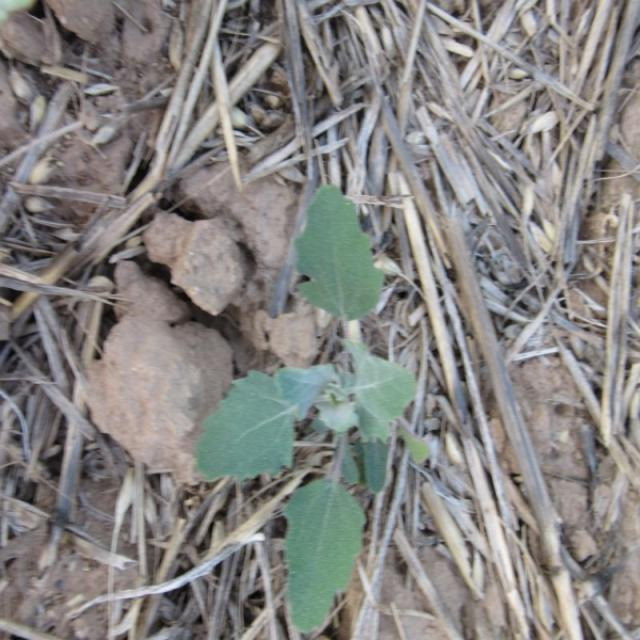ca: (278, 191, 406, 632)
